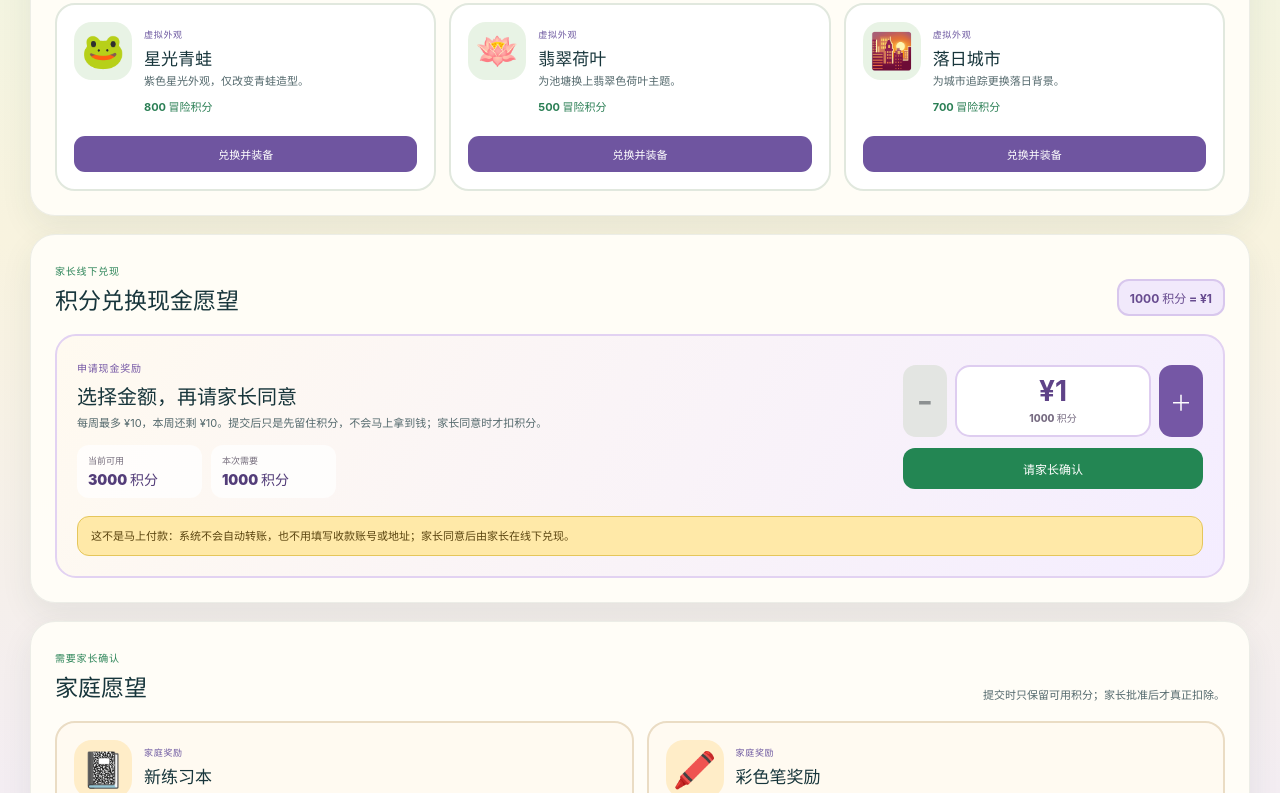
it: RewardCabinetPage › submits a variable cash wish at 1,000 points per yuan without immediate deduction
The image size is (1280, 793).
(page scrolled)
Expected: the text "1000 积分 = ¥1" is shown, [1117,279,1225,316]
Expected: the text "每周最多 ¥10，本周还剩 ¥10。提交后只是先留住积分，不会马上拿到钱；家长同意时才扣积分。" is shown, [77,416,547,430]
Step 1. Click the button named "增加一元" → (1181, 401), box [1159,365,1203,437]
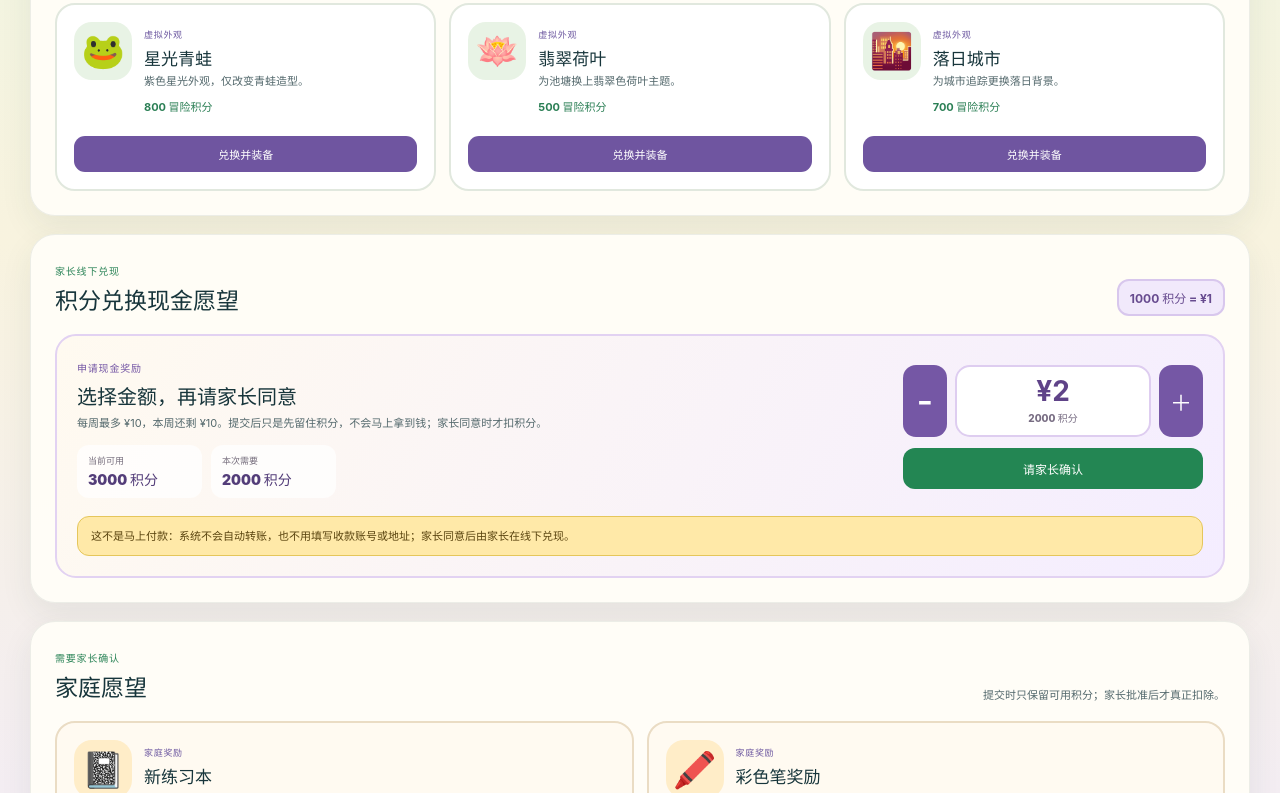
Step 2. Click the button named "增加一元" → (1181, 401), box [1159,365,1203,437]
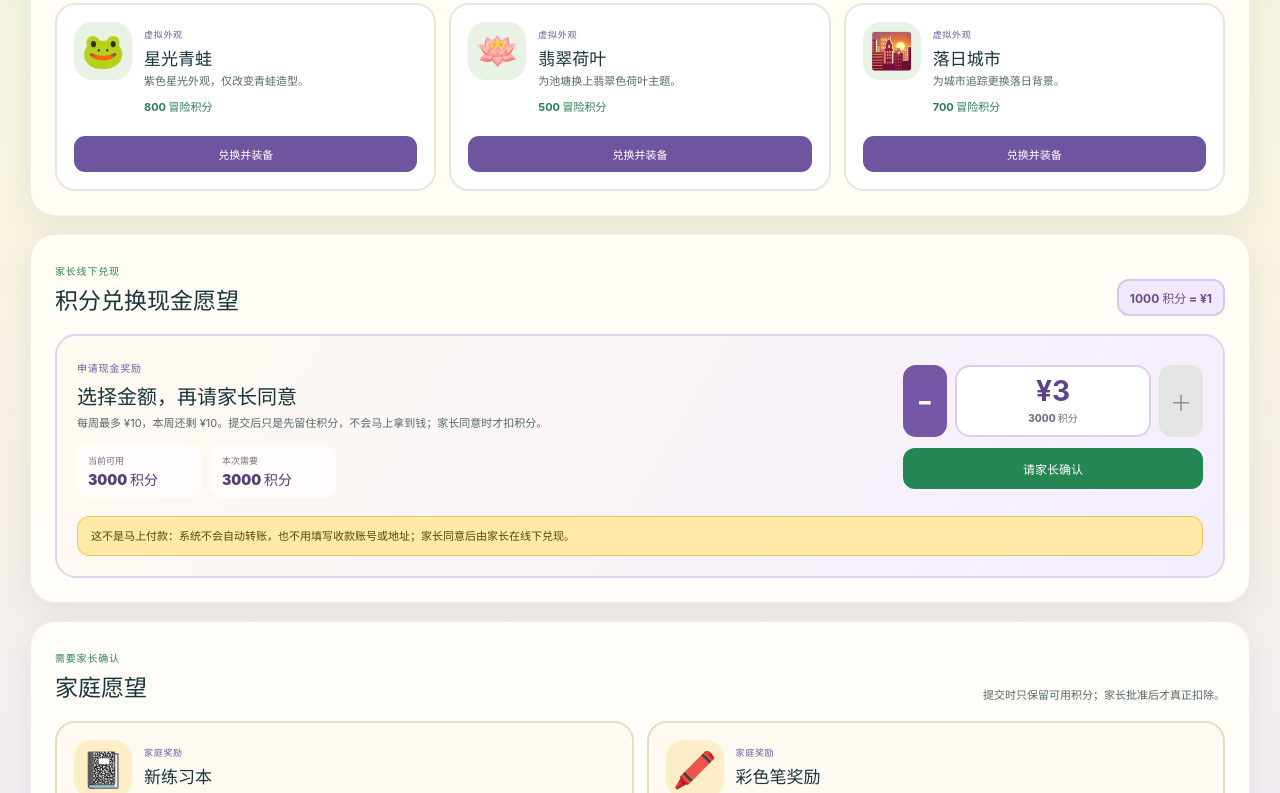
Result: the text "¥3" is shown at [1036,377,1070,405]
Step 3. Click the button named "减少一元" → (925, 401), box [903,365,947,437]
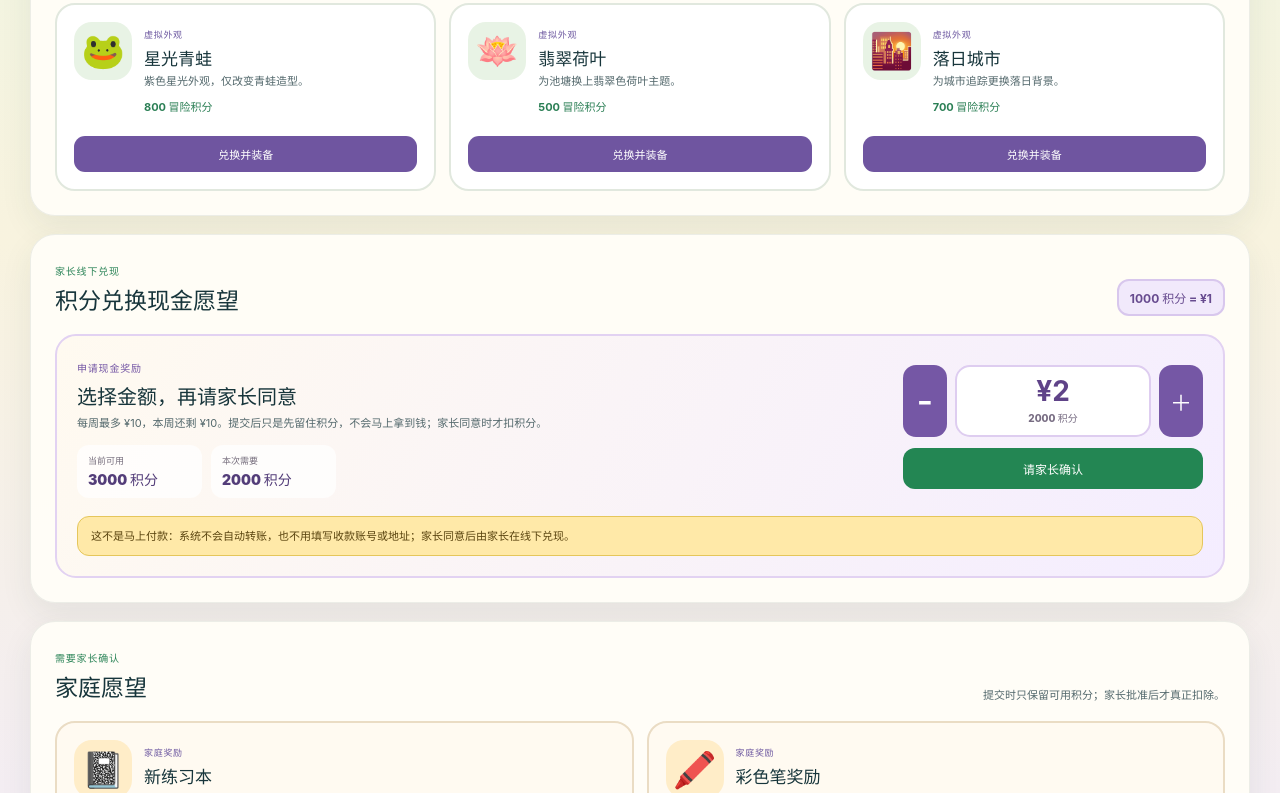
Result: the text "¥2" is shown at [1036,377,1070,405]
Step 4. Click the button "请家长确认" → (1053, 468), box [903,448,1203,489]
(page scrolled)
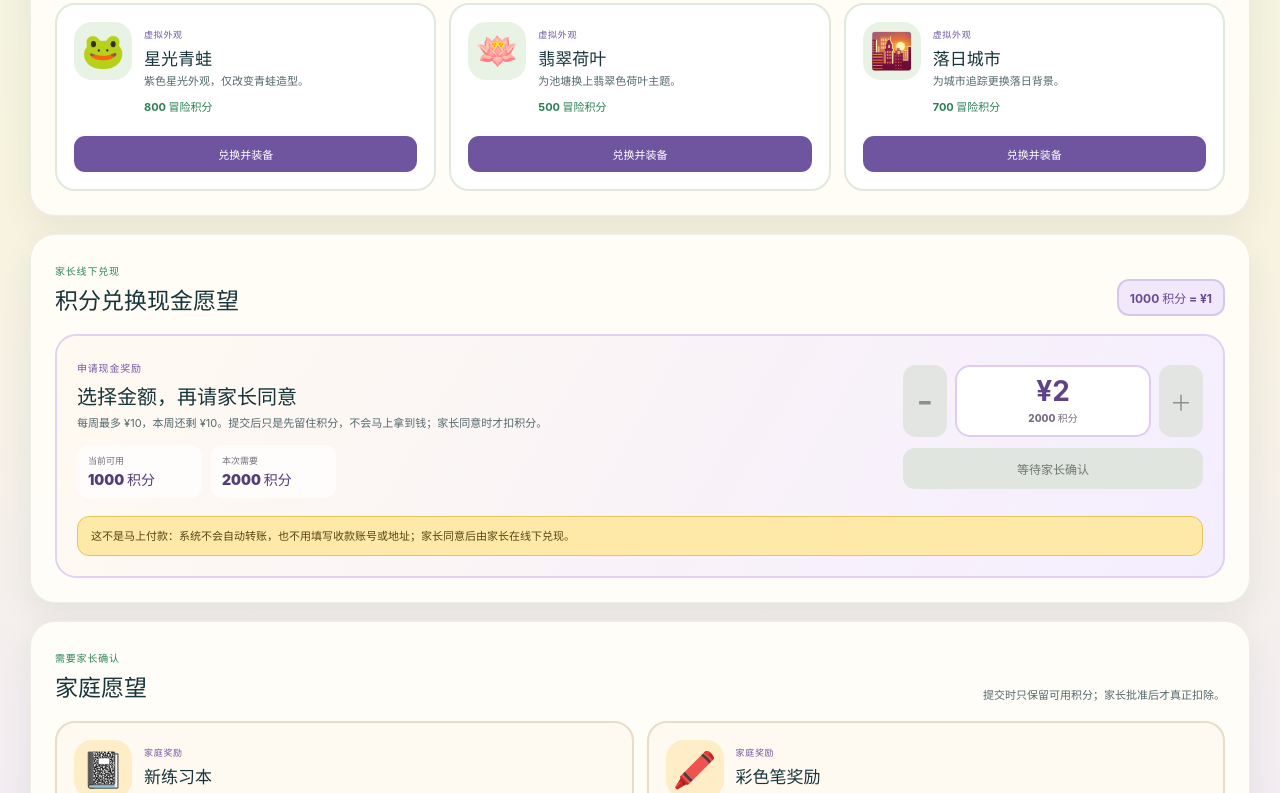
Result: the button "等待家长确认" is disabled at [903,448,1203,489]
